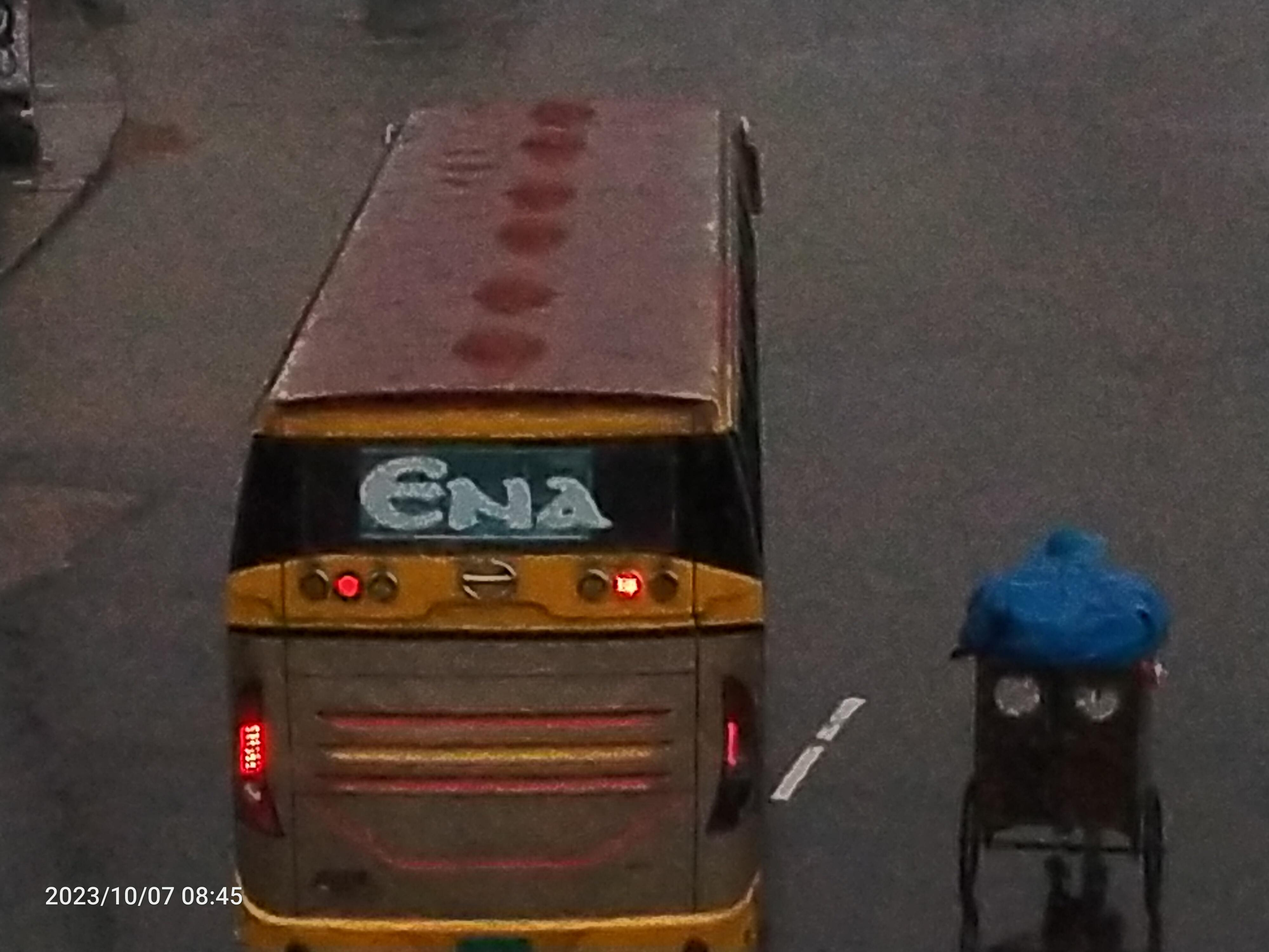Bus: (133, 33, 876, 952)
